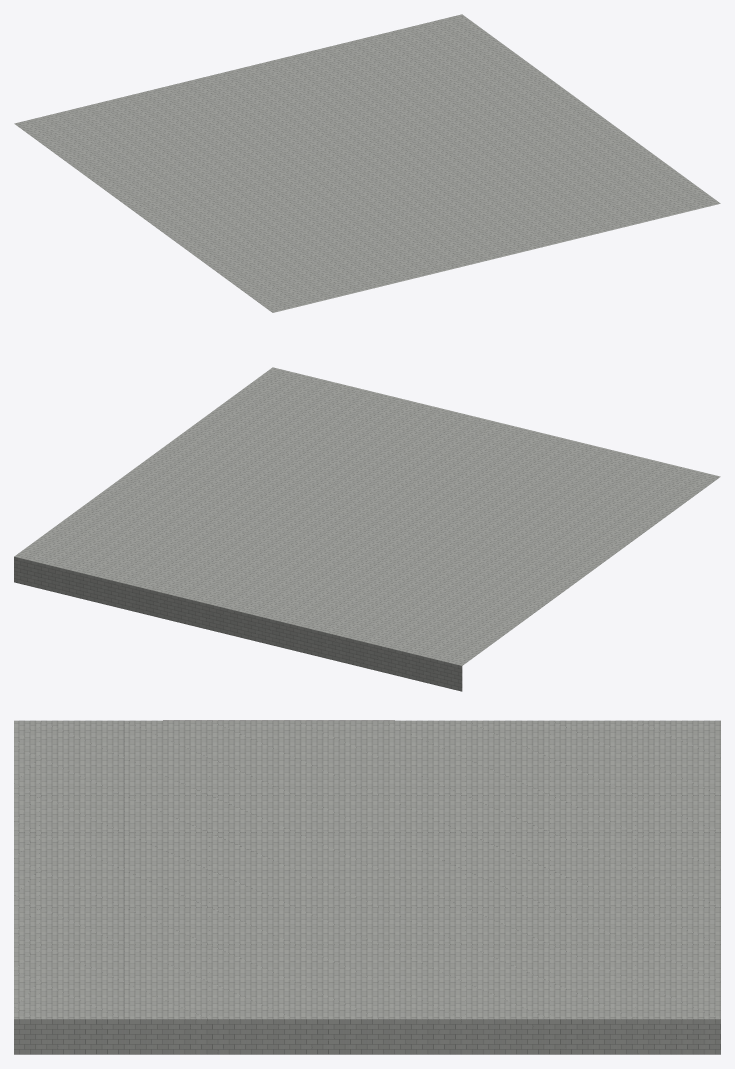
The model's file is canal-2-0.glb.
3 views of the same model, one above another, from view 1: azimuth 30°, elevation 25°; view 2: azimuth 150°, elevation 25°; view 3: azimuth 270°, elevation 25° (orthographic). The views are drawn at different scales.
Parts seen in each view (by area): view 1: canal-2-0; view 2: canal-2-0; view 3: canal-2-0.
Boxes of the visible parts, x1,y1,x2,y2 form: canal-2-0: [14, 14, 720, 312]; canal-2-0: [14, 367, 720, 691]; canal-2-0: [14, 720, 720, 1054].
Size of the model in its own units: 128 by 7.05 by 128.
Materials: 2 (2 with a texture image).
